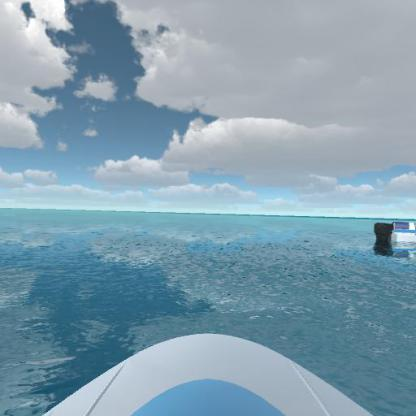usv1: (373, 213, 415, 254)
